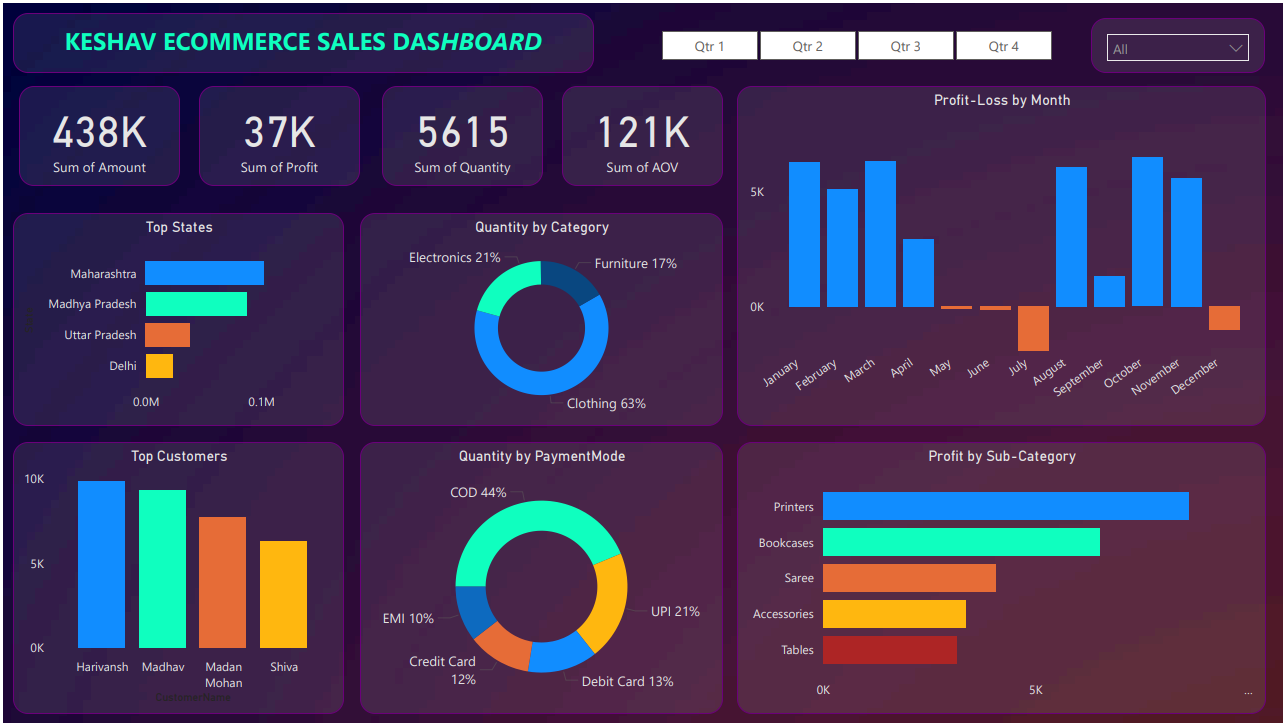

The dashboard page shown, as its layout file describes it:
{"tool":"powerbi","page":{"name":"Page 1","canvas":[1280,720],"ordinal":0},"visuals":[{"type":"textbox","box":[9.6,9.6,581.8,60.4],"z":0},{"type":"columnChart","title":"Profit-Loss by Month","fields":{"Y":["Sum(Details.Profit)"],"Category":["Orders.Order Date.Variation.Date Hierarchy.Month"]},"box":[734.3,82.9,528.6,340],"z":1000},{"type":"barChart","title":"Profit by Sub-Category","fields":{"Category":["Details.Sub-Category"],"Y":["Sum(Details.Profit)"]},"box":[734.3,438.6,528.6,272.9],"z":2000},{"type":"donutChart","title":"Quantity by Category","fields":{"Category":["Details.Category"],"Y":["Sum(Details.Quantity)"]},"box":[357.1,210,362.9,212.9],"z":3000},{"type":"donutChart","title":"Quantity by PaymentMode","fields":{"Category":["Details.PaymentMode"],"Y":["Sum(Details.Quantity)"]},"box":[357.1,438.6,362.9,272.9],"z":4000},{"type":"card","fields":{"Values":["Sum(Details.Amount)"]},"box":[15.7,82.9,161.4,100],"z":5000},{"type":"card","fields":{"Values":["Sum(Details.Quantity)"]},"box":[378.6,82.9,161.4,100],"z":6000},{"type":"card","fields":{"Values":["Sum(Details.Profit)"]},"box":[195.7,82.9,161.4,100],"z":7000},{"type":"card","fields":{"Values":["Sum(Details.AOV)"]},"box":[558.6,82.9,161.4,100],"z":8000},{"type":"barChart","title":"Top States","fields":{"Category":["Orders.State"],"Y":["Sum(Details.Amount)"]},"box":[10,210,331.4,212.9],"z":9000},{"type":"columnChart","title":"Top Customers","fields":{"Category":["Orders.CustomerName"],"Y":["Sum(Details.Amount)"]},"box":[10,438.6,331.4,272.9],"z":10000},{"type":"slicer","fields":{"Values":["Orders.Order Date.Variation.Date Hierarchy.Quarter"]},"box":[632.6,20.6,440.5,43.9],"z":11000},{"type":"slicer","fields":{"Values":["Orders.State"]},"box":[1088.2,15.1,174.3,54.9],"z":12000}]}

Visuals, with their boxes in screenshot pixels (x1, y1, x2, y2), scaled from the page's 1280x720 canvas onto the 1287x726 screenshot:
textbox: {"x1": 10, "y1": 10, "x2": 595, "y2": 71}
"Profit-Loss by Month" columnChart: {"x1": 738, "y1": 84, "x2": 1270, "y2": 426}
"Profit by Sub-Category" barChart: {"x1": 738, "y1": 442, "x2": 1270, "y2": 717}
"Quantity by Category" donutChart: {"x1": 359, "y1": 212, "x2": 724, "y2": 426}
"Quantity by PaymentMode" donutChart: {"x1": 359, "y1": 442, "x2": 724, "y2": 717}
card - Sum(Details.Amount): {"x1": 16, "y1": 84, "x2": 178, "y2": 184}
card - Sum(Details.Quantity): {"x1": 381, "y1": 84, "x2": 543, "y2": 184}
card - Sum(Details.Profit): {"x1": 197, "y1": 84, "x2": 359, "y2": 184}
card - Sum(Details.AOV): {"x1": 562, "y1": 84, "x2": 724, "y2": 184}
"Top States" barChart: {"x1": 10, "y1": 212, "x2": 343, "y2": 426}
"Top Customers" columnChart: {"x1": 10, "y1": 442, "x2": 343, "y2": 717}
slicer - Orders.Order Date.Variation.Date Hierarchy.Quarter: {"x1": 636, "y1": 21, "x2": 1079, "y2": 65}
slicer - Orders.State: {"x1": 1094, "y1": 15, "x2": 1269, "y2": 71}
